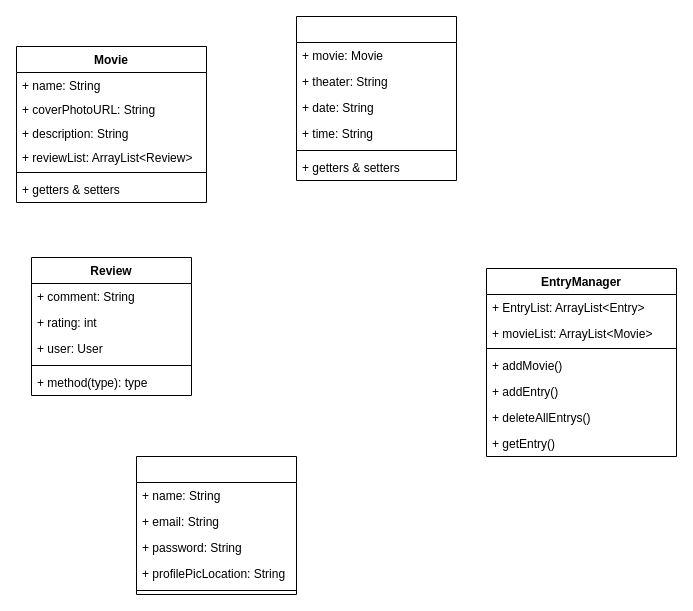
This 693x611 diagram has some shape labels left out. The shapes that lost their labels are listed below. From the top down, each one's box as (x1, y1, x2, y2) in pixels, then its label:
(296, 16, 456, 180): Entry
(136, 456, 296, 594): User
